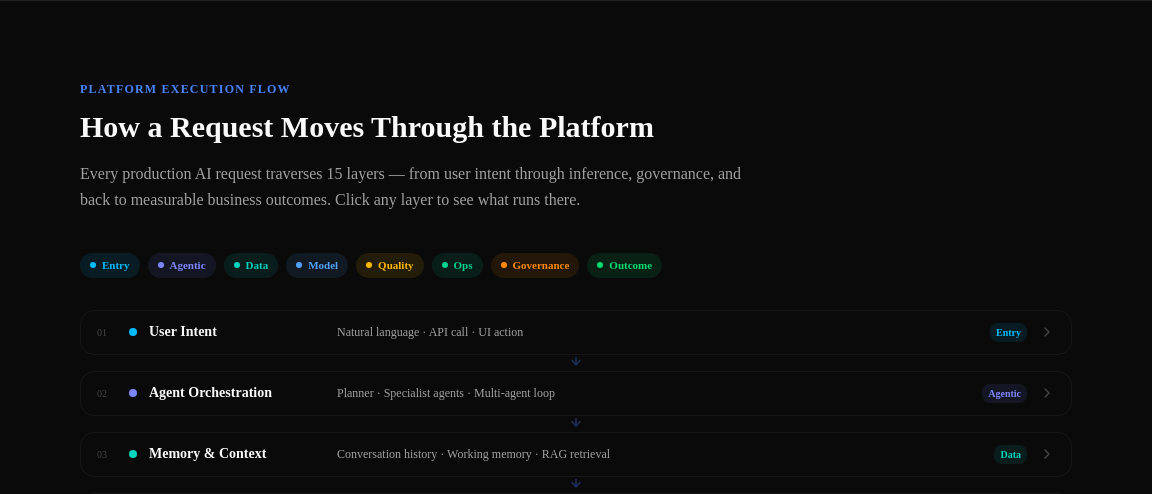
Test: AIArchitecture › clicking an expanded layer collapses it
The width and height of the screenshot is (1152, 494).
Click the button "01 User Intent Natural language · API call · UI action Entry" at x=183, y=332, box [81,310,1071,354]
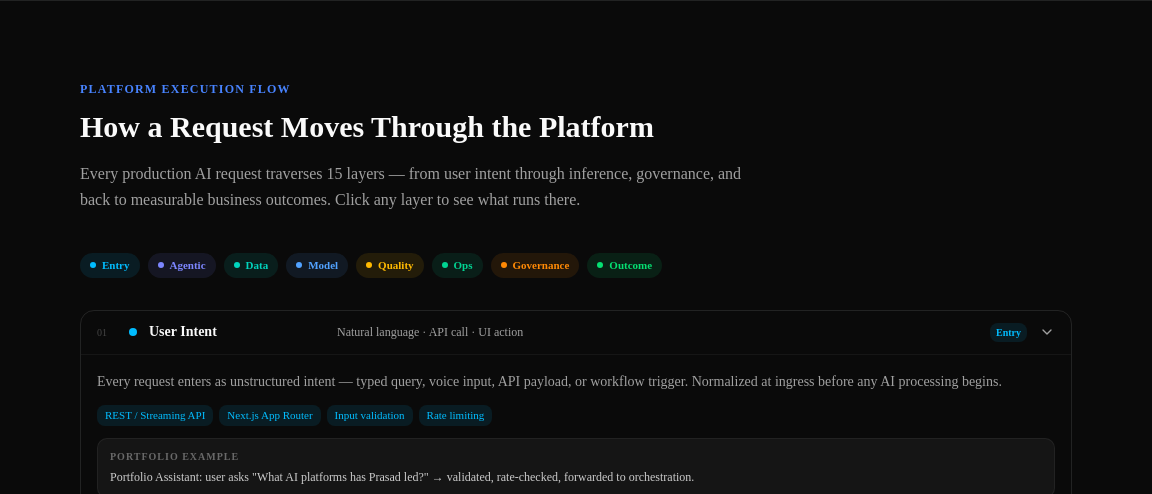
Expected: the text "Every request enters as unstructured intent" is shown, [97,374,1002,388]
Click the button "01 User Intent Natural language · API call · UI action Entry" at x=183, y=332, box [81,310,1071,354]
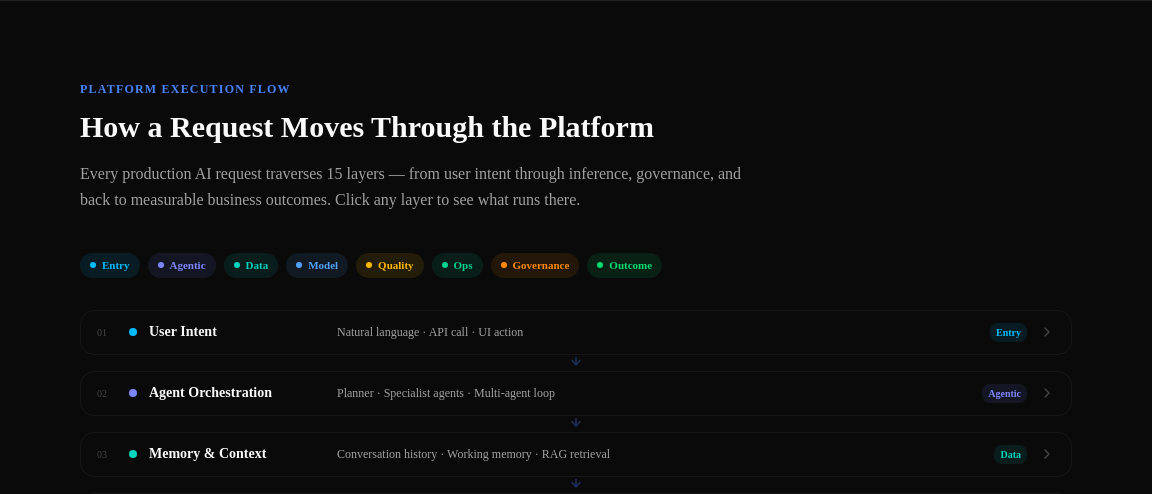
Expected: the text "Every request enters as unstructured intent" is gone
Expected: the button "01 User Intent Natural language · API call · UI action Entry" is collapsed, [81,310,1071,354]
